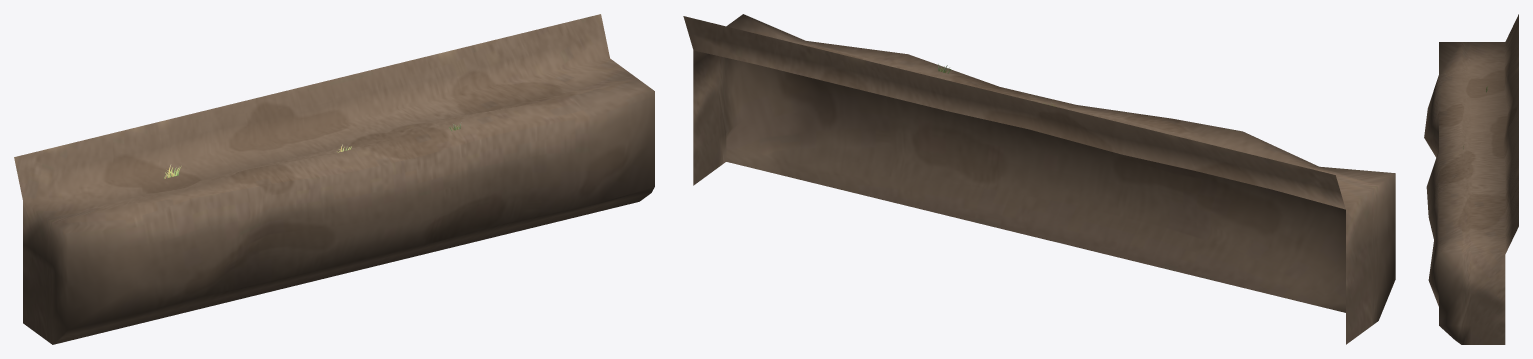
File: chaoFBX.fbx
3 views of the same model, side by side, from view 1: azimuth 30°, elevation 25°; view 2: azimuth 150°, elevation 25°; view 3: azimuth 270°, elevation 25° (orthographic). The views are drawn at different scales.
Parts seen in each view (by area): view 1: Cube; view 2: Cube; view 3: Cube.
Boxes of the visible parts, x1,y1,x2,y2 form: Cube: (14, 14, 654, 344); Cube: (683, 14, 1395, 344); Cube: (1424, 14, 1518, 344).
Size of the model in its own units: 8.97 by 2.3 by 1.67.
